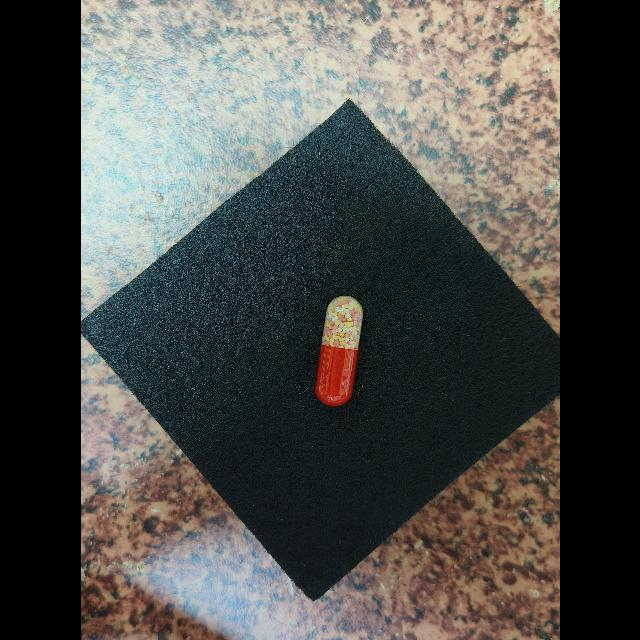Intact Capsule: (315, 295, 363, 407)
